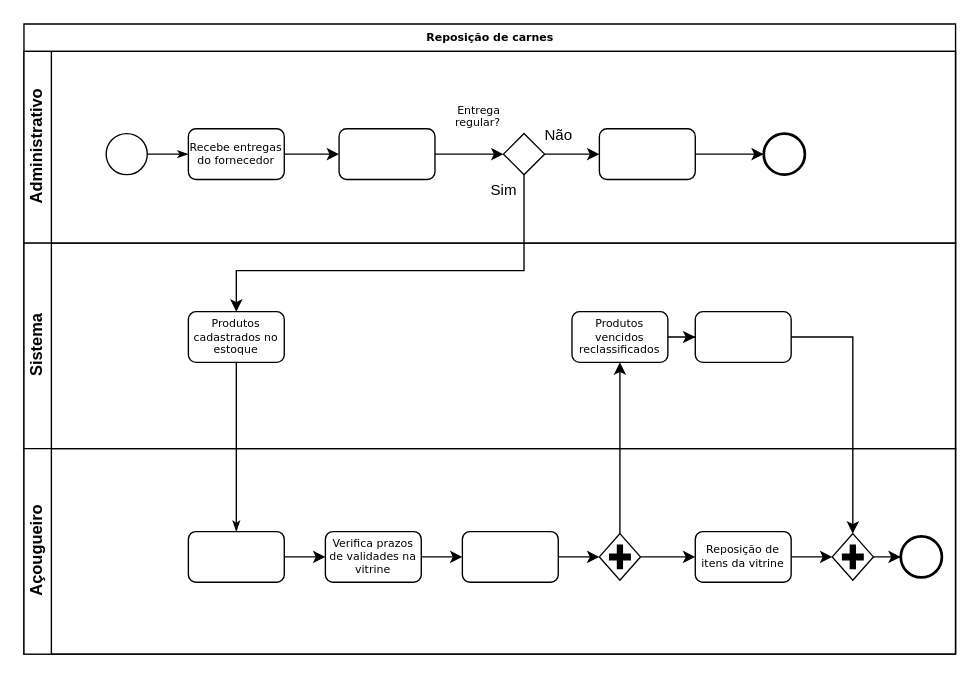
Image size: 980x678. Some labels were removed from this diagram. Here are the shapes that lost their labels. From the top down, the centre of each, then its label:
pixel 386 153: Verifica quantidade e documentos
pixel 646 153: Notificar fornecedor e chefia
pixel 742 336: Gera documentação para descarte
pixel 235 556: Consulta sistema
pixel 509 556: Remove produtos vencidos
